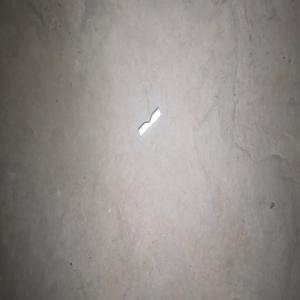ClampPart: (138, 106, 161, 137)
